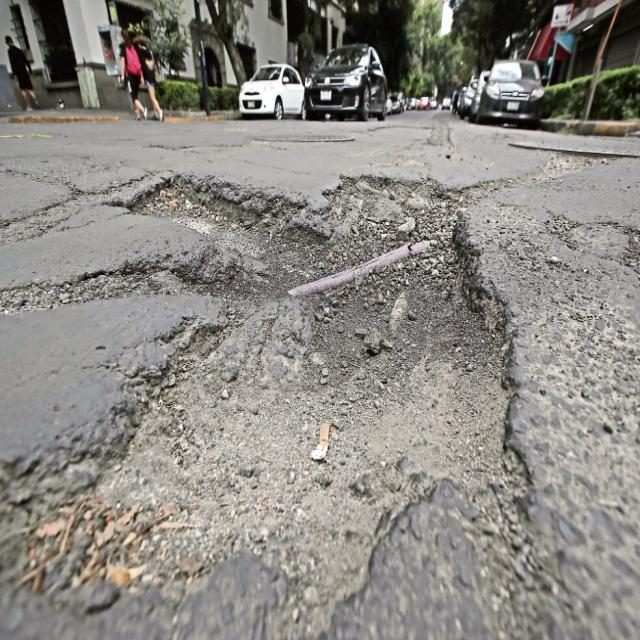Pothole: (21, 137, 545, 615)
